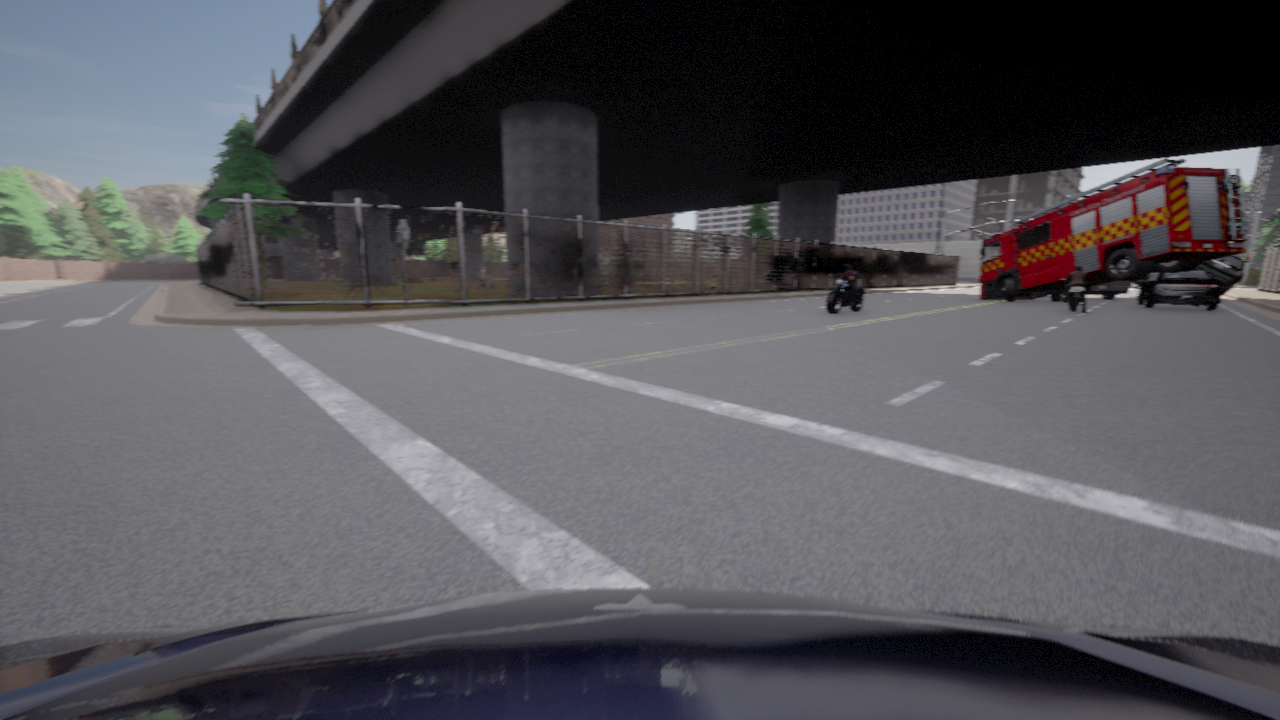cyclist: (0, 588, 1279, 719), (979, 158, 1247, 300), (1136, 270, 1220, 309), (1194, 255, 1244, 295), (826, 272, 865, 313), (1063, 280, 1130, 298), (1060, 278, 1091, 311), (1130, 272, 1154, 288), (1046, 291, 1049, 295)
pedestrian: (709, 274, 717, 296)
